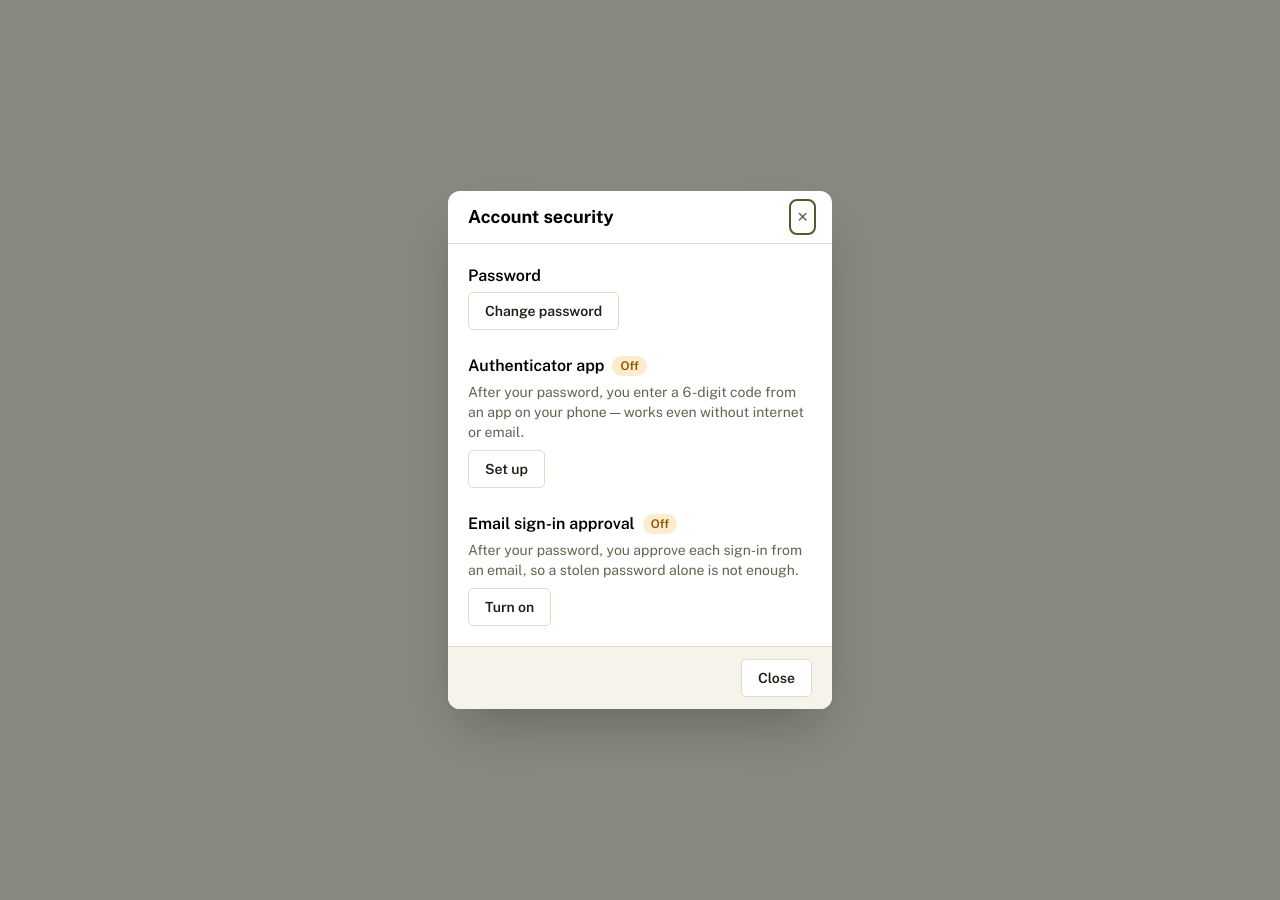
account security › cancels setup without turning anything on
The image size is (1280, 900).
What coordinates should you click on to do the following:
click the button "Set up"
I would click on:
 (506, 469)
Its box is left=468, top=450, right=545, bottom=488.
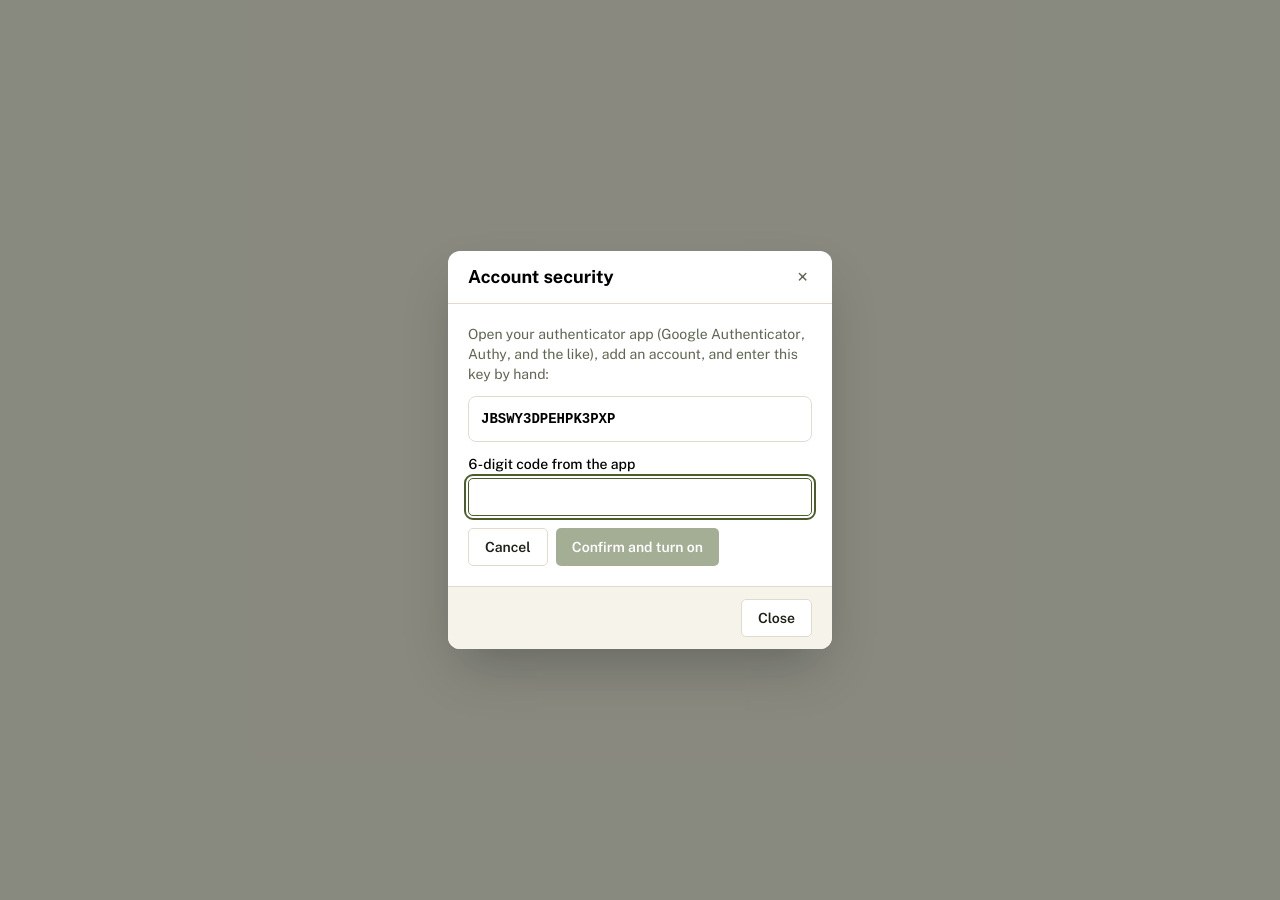
Expected: the text "JBSWY3DPEHPK3PXP" is shown, left=481, top=411, right=615, bottom=427
What coordinates should you click on to do the following:
click the button "Cancel"
I would click on:
 (508, 547)
Its box is left=468, top=528, right=548, bottom=566.
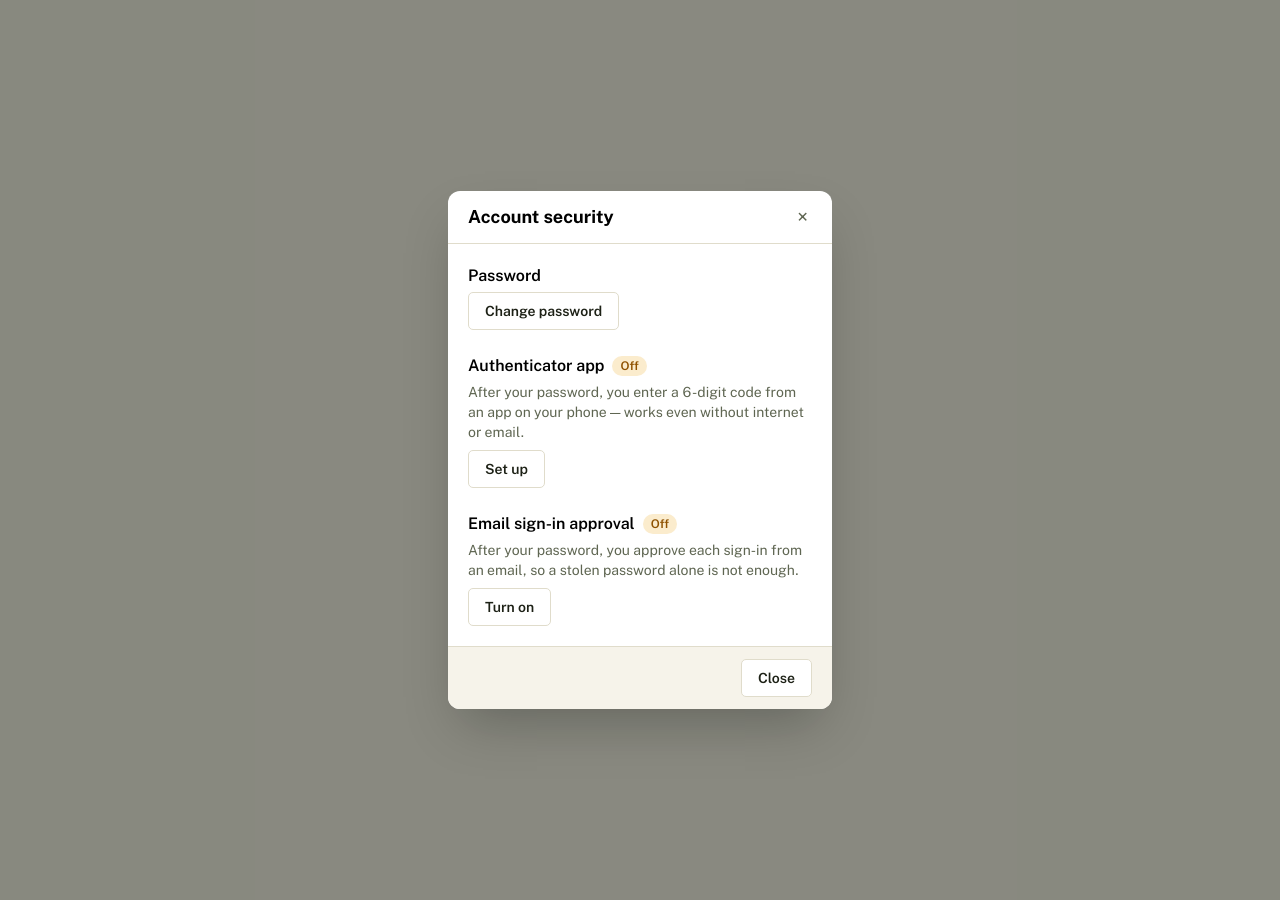
Expected: the button "Set up" is shown, left=468, top=450, right=545, bottom=488
